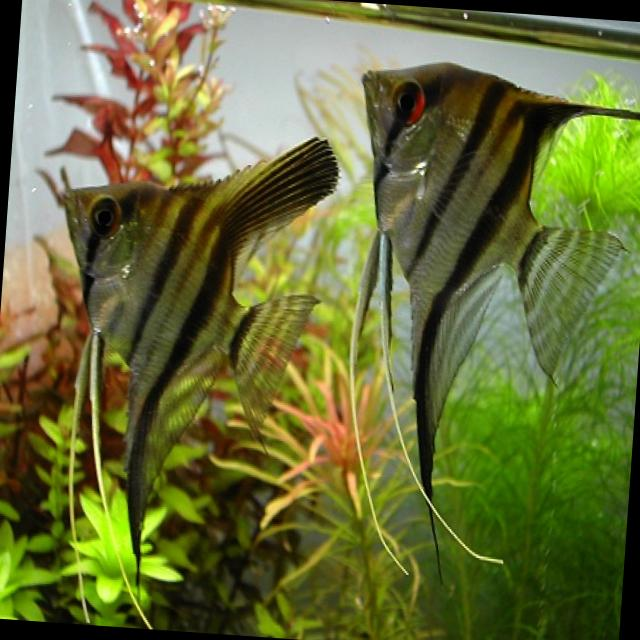AngelFish: (329, 47, 640, 560), (39, 116, 338, 566)
